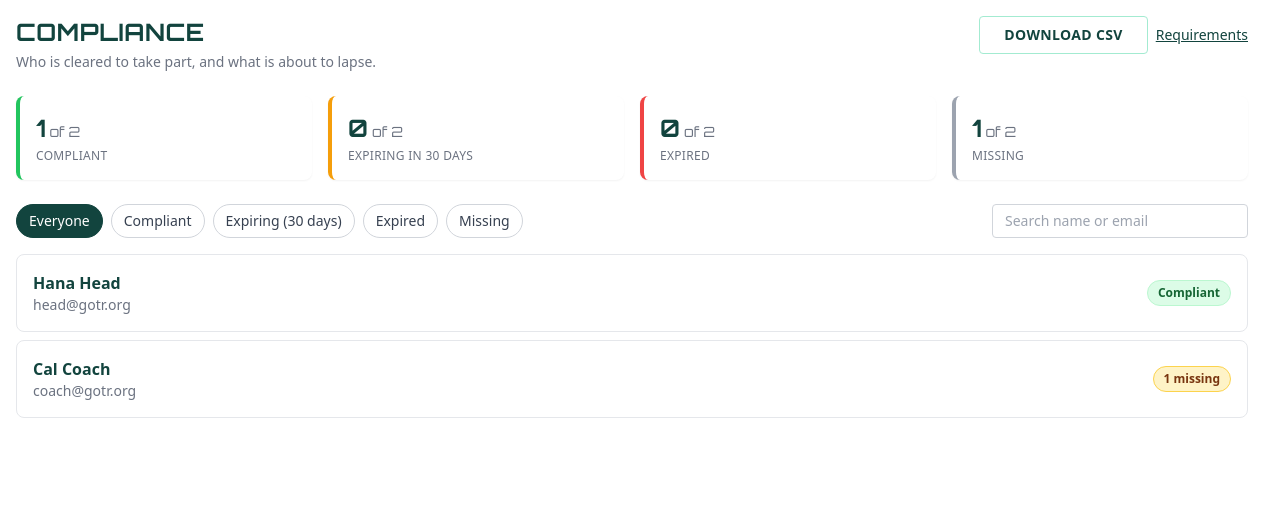
Test case: ClubCompliance › a refused download says why instead of saving the error as a .csv
The width and height of the screenshot is (1265, 513).
Expected: the text "Hana Head" is shown, [33,272,121,294]
Click the button "Download CSV": click(1064, 35) [979,16,1148,54]
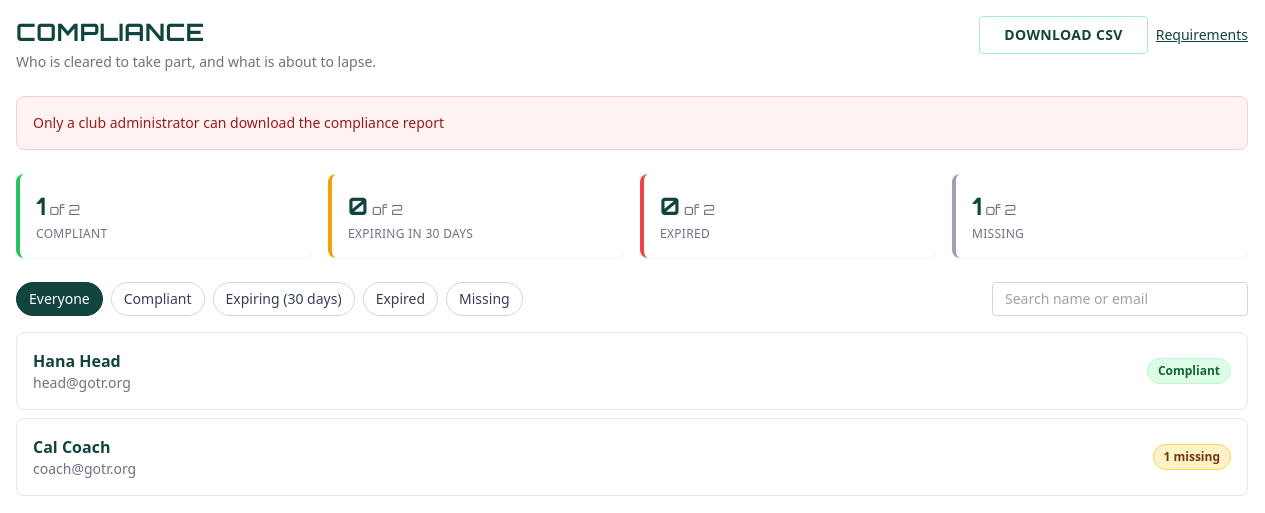
Now the text "Only a club administrator can download the compliance report" is shown, box [16,96,1248,150]
